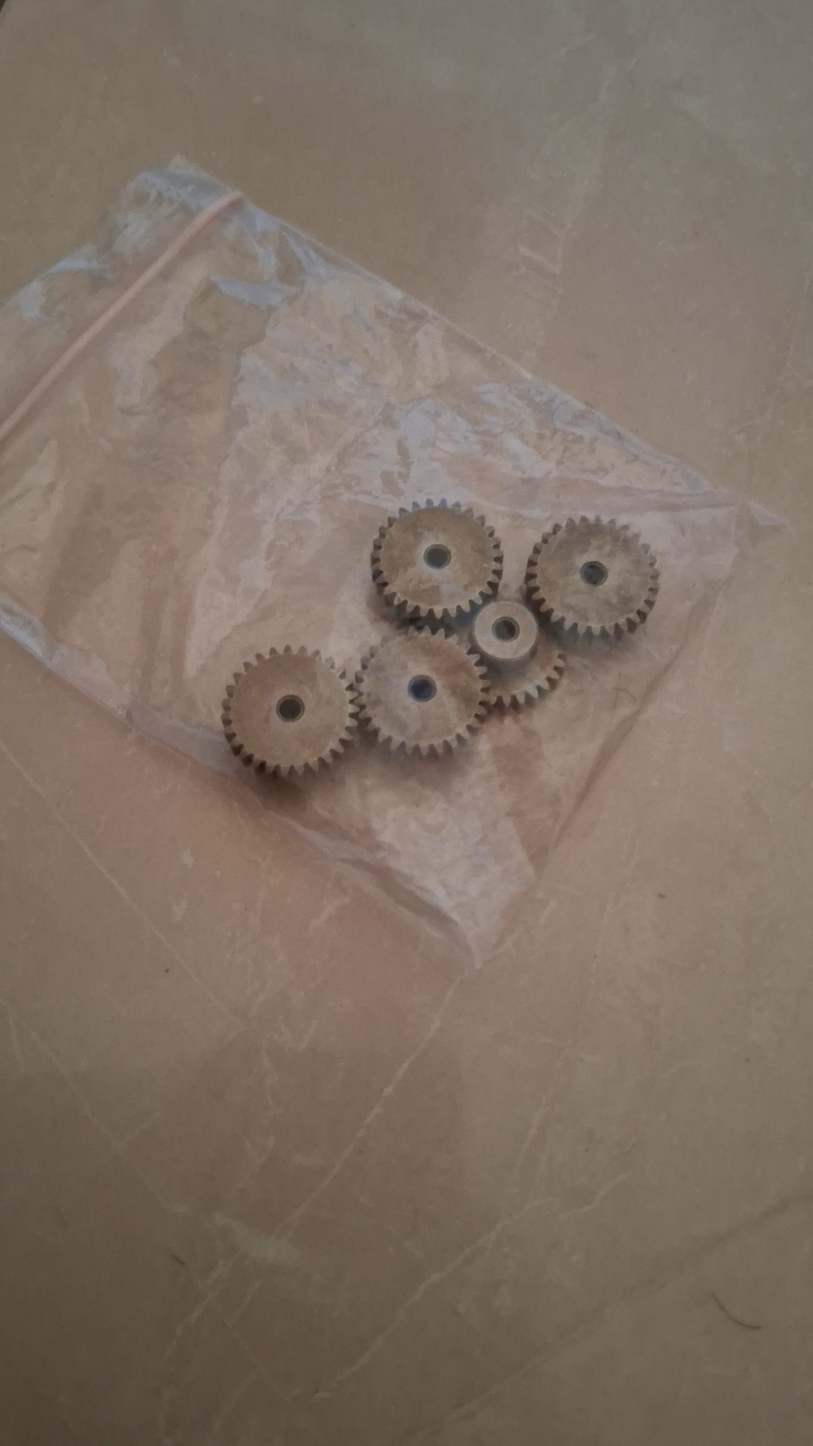spur gear: (222, 646, 357, 776), (356, 628, 488, 756), (525, 516, 659, 638), (372, 500, 502, 623), (471, 599, 565, 708)
